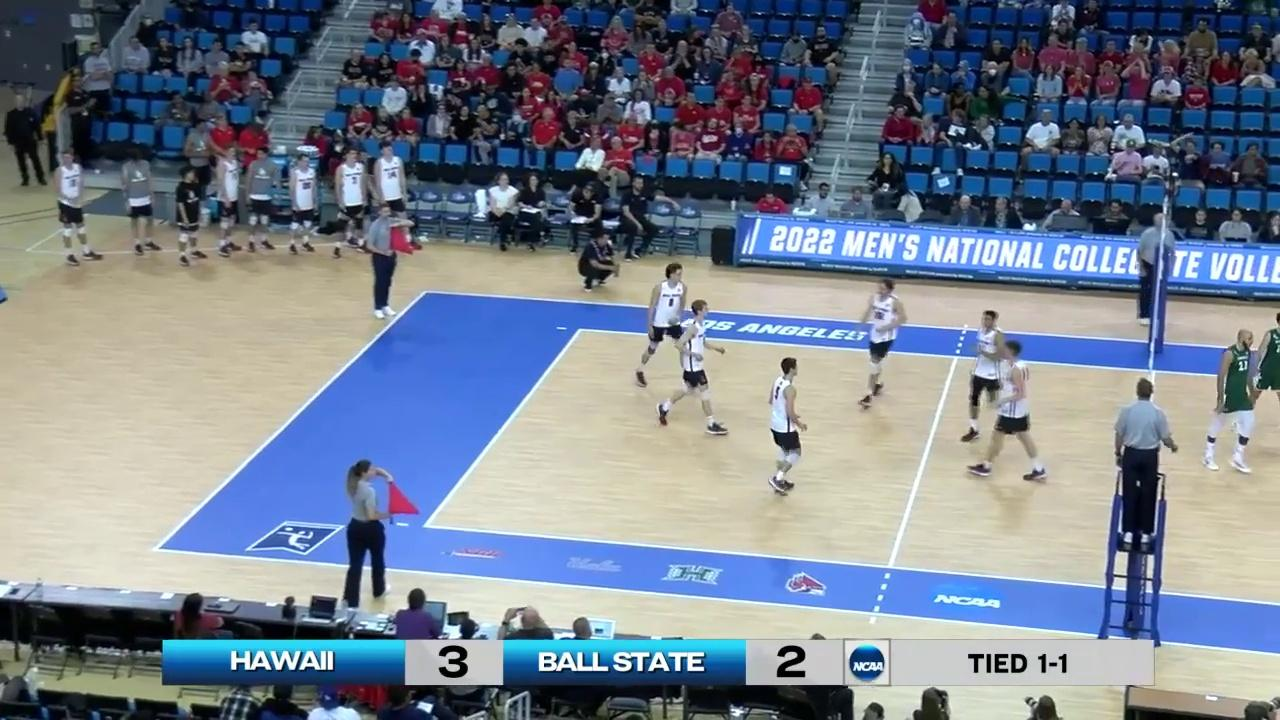player: (970, 342, 1047, 482), (659, 299, 730, 432), (961, 312, 1021, 442), (1204, 329, 1253, 473), (639, 265, 694, 391), (762, 356, 808, 493), (857, 276, 898, 408), (1238, 307, 1279, 437)
refree: (1107, 380, 1176, 540), (346, 462, 404, 610), (365, 200, 406, 319), (1139, 213, 1175, 321)
